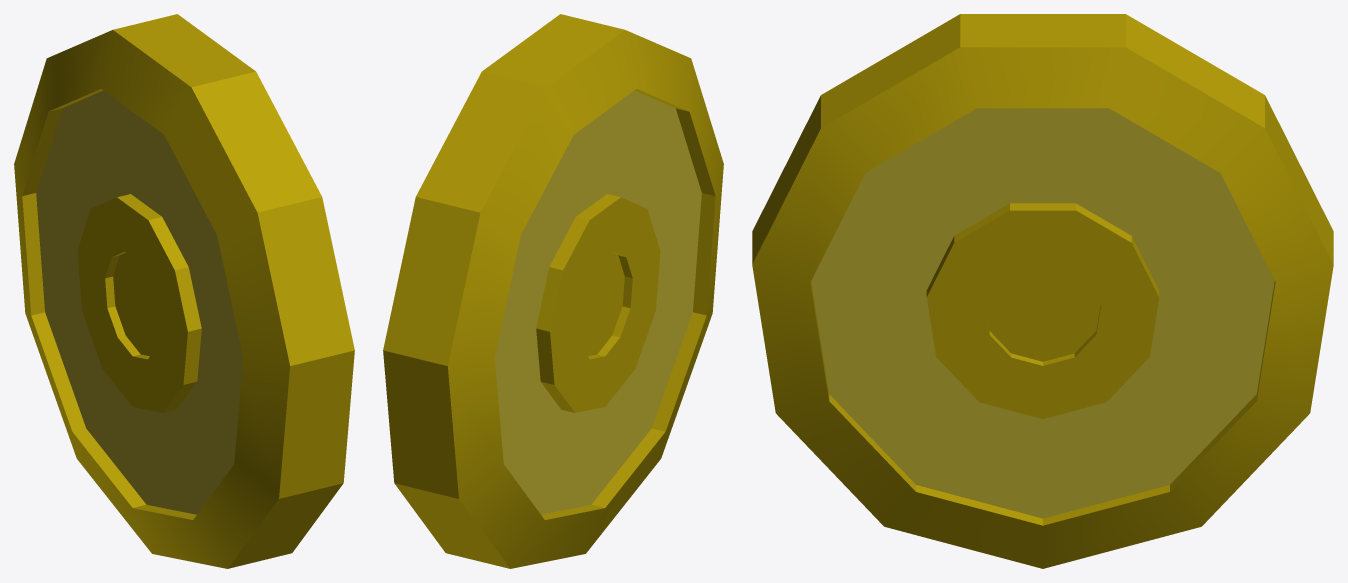
Rendered from Gold01.fbx.
3 views of the same model, side by side, from view 1: azimuth 30°, elevation 25°; view 2: azimuth 150°, elevation 25°; view 3: azimuth 270°, elevation 25° (orthographic). The views are drawn at different scales.
Parts seen in each view (by area): view 1: Coin01; view 2: Coin01; view 3: Coin01.
Boxes of the visible parts, <box> form: Coin01: <box>14,14,354,568</box>; Coin01: <box>383,14,723,568</box>; Coin01: <box>752,14,1333,568</box>.
Size of the model in its own units: 0.0326 by 0.1492 by 0.1507.
